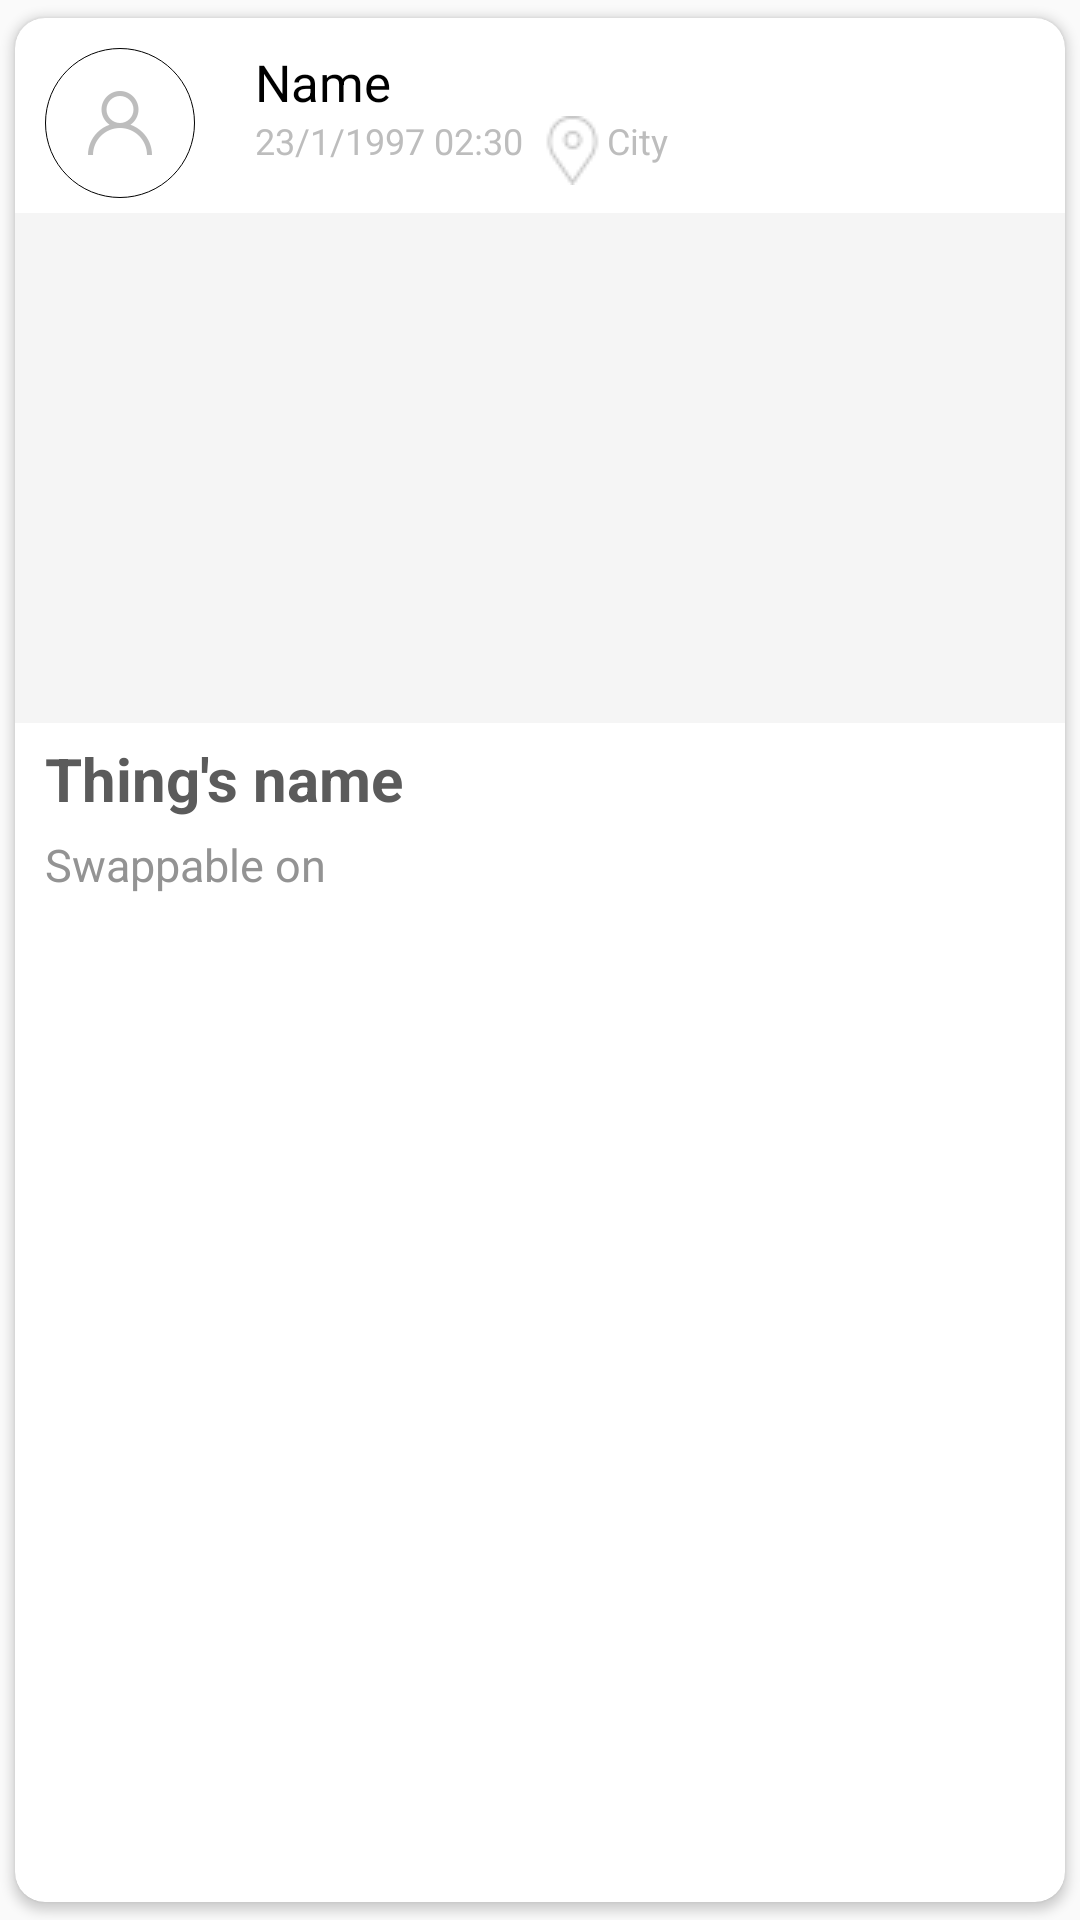

Icon click points for this 1080×1920 phone screenshot, format [x,y]:
userpic: [120,123]
